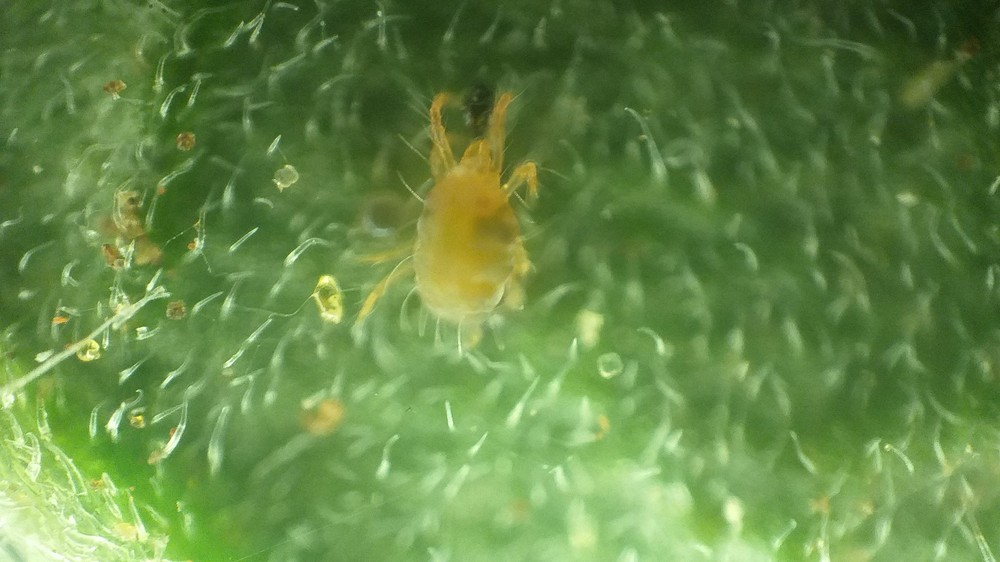Aracnido Rojo: (353, 88, 585, 368)
